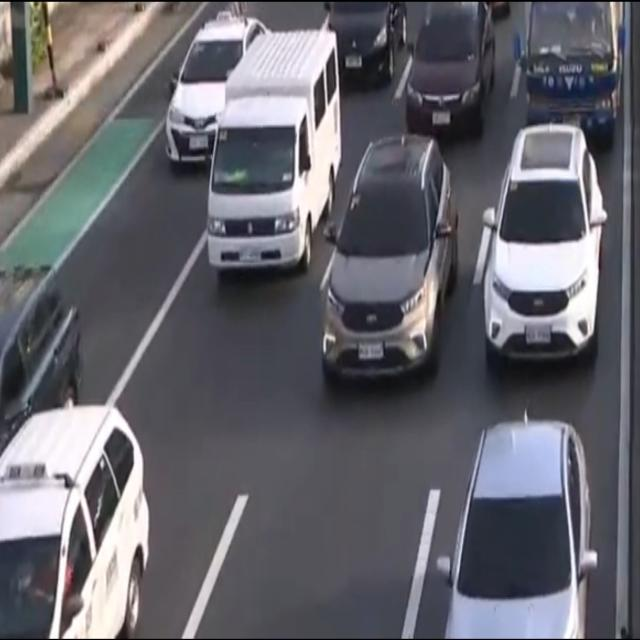Pick-up: (208, 30, 341, 274)
SUV: (0, 403, 148, 640), (322, 135, 454, 381), (485, 132, 605, 369), (0, 246, 90, 465)
Sedan: (442, 413, 596, 640), (166, 18, 264, 150), (404, 3, 494, 141), (314, 0, 408, 93)
Truck: (522, 0, 625, 151)
